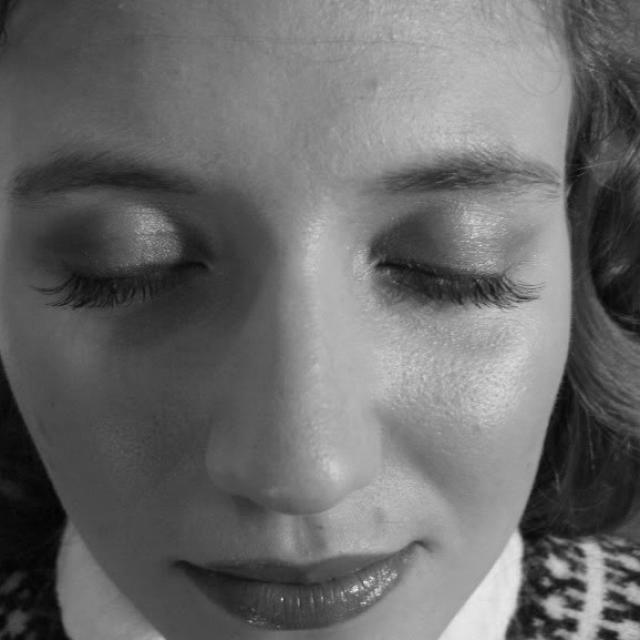real: (0, 0, 571, 640), (32, 200, 539, 324)
